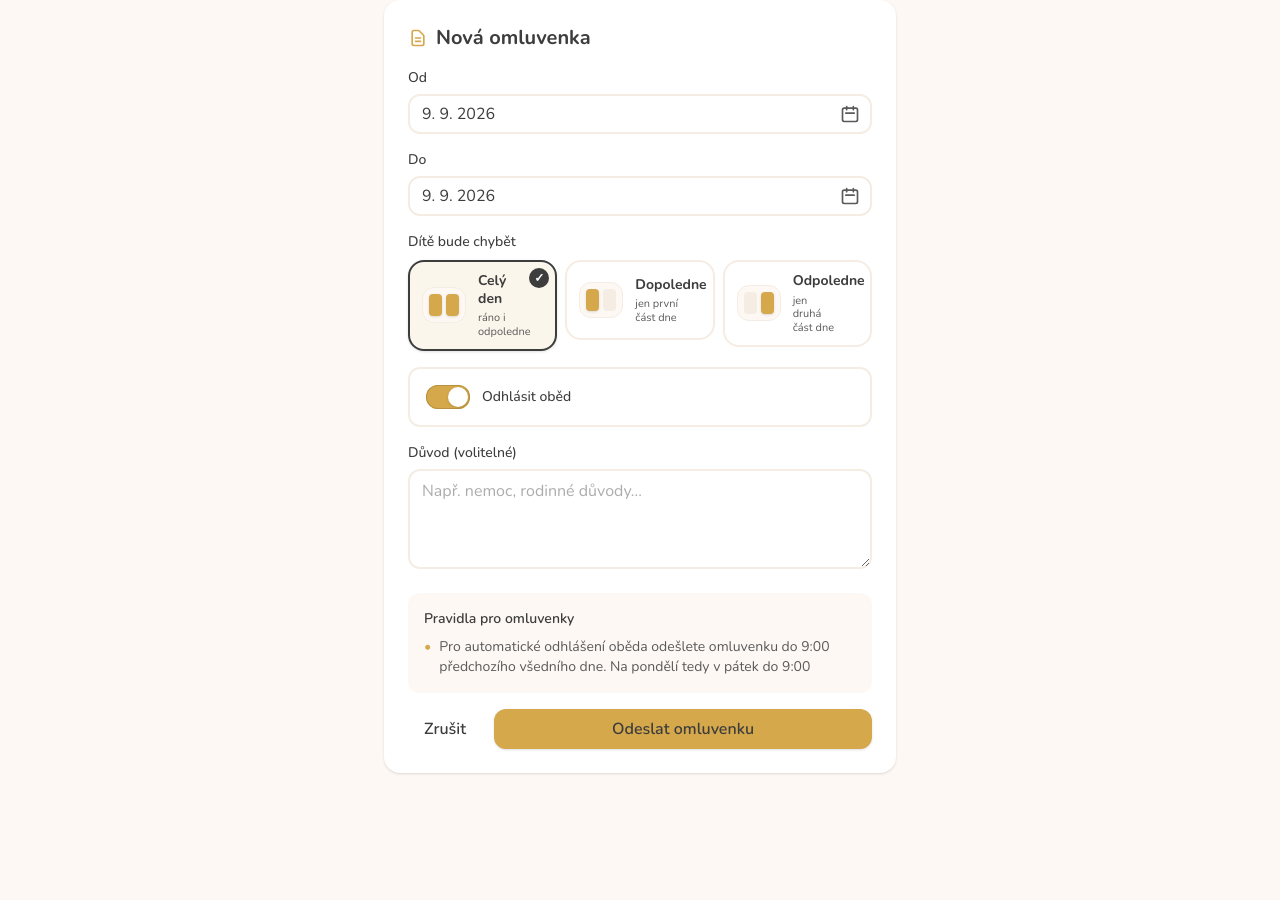
Test: NewExcusePage › filters date endpoints by the child's schedule (makeup=false)
Check: the heading "Nová omluvenka" is shown, box [408, 24, 591, 51]
Click the dropdown labelled "Od".
click(640, 114)  # box [408, 94, 872, 134]
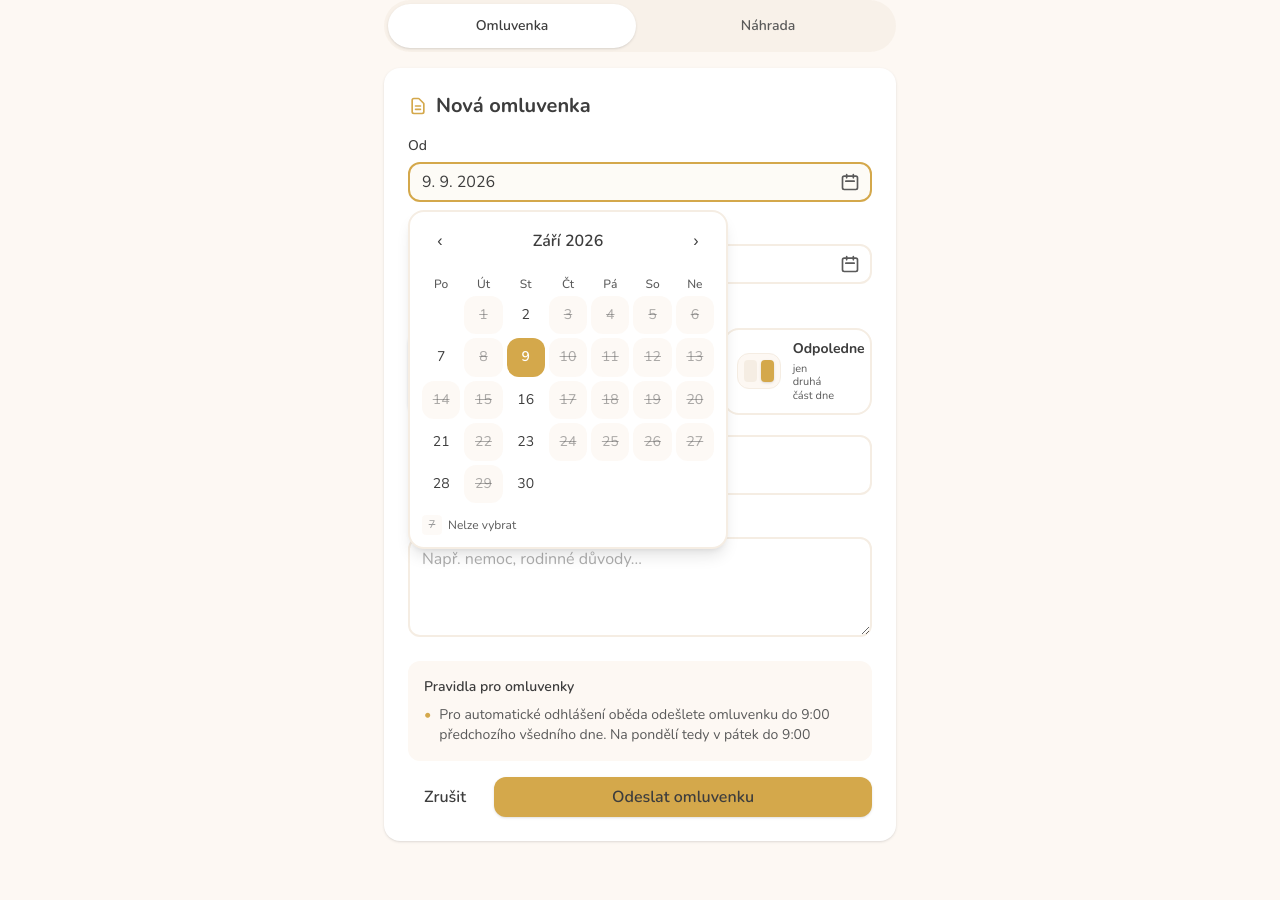
Check: the button named "středa 9. září 2026" is enabled
Check: the button named "čtvrtek 10. září 2026" is disabled, box [549, 338, 587, 377]
Click the button named "středa 9. září 2026".
click(526, 357)  # box [507, 338, 545, 377]
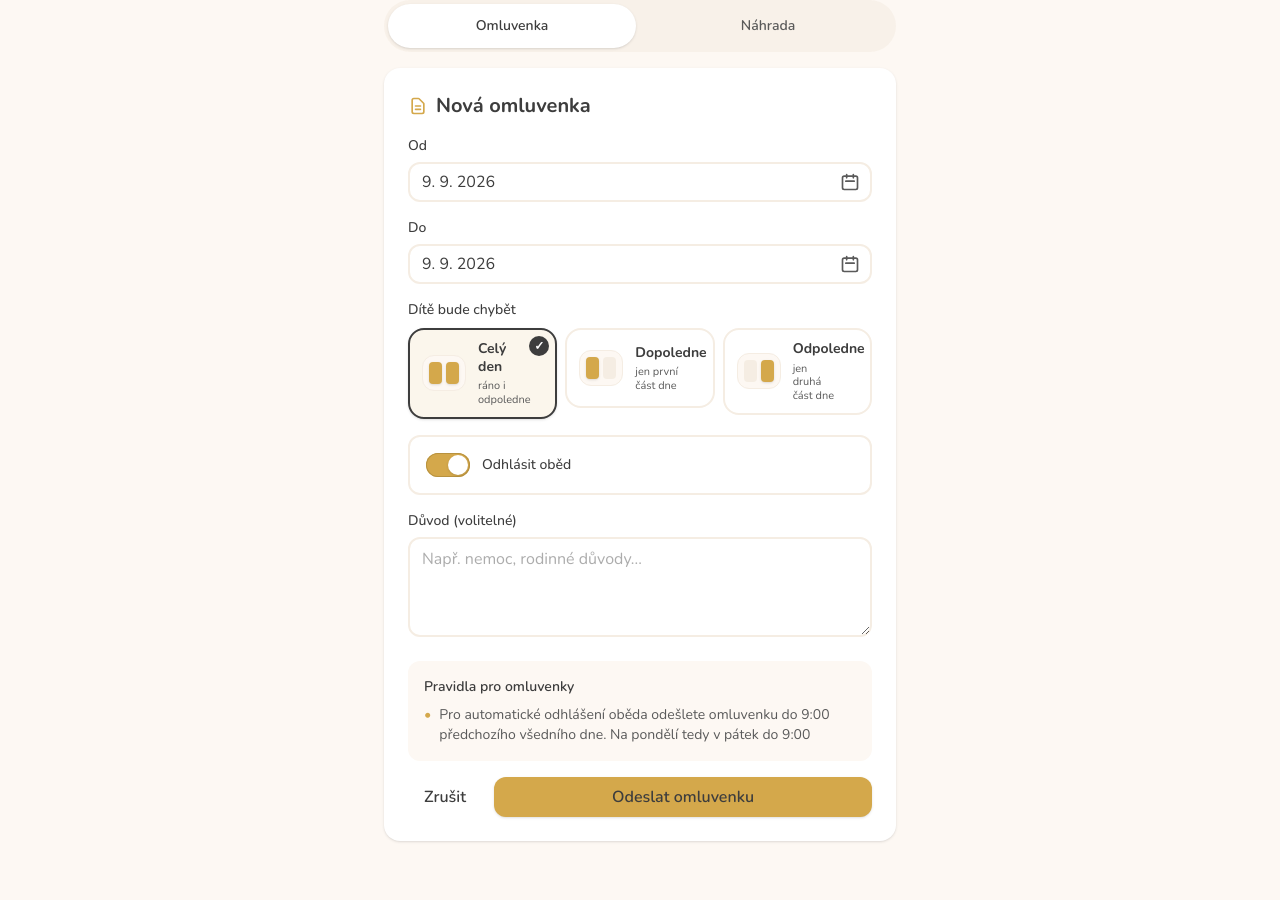
Click the dropdown labelled "Do".
click(640, 264)  # box [408, 244, 872, 284]
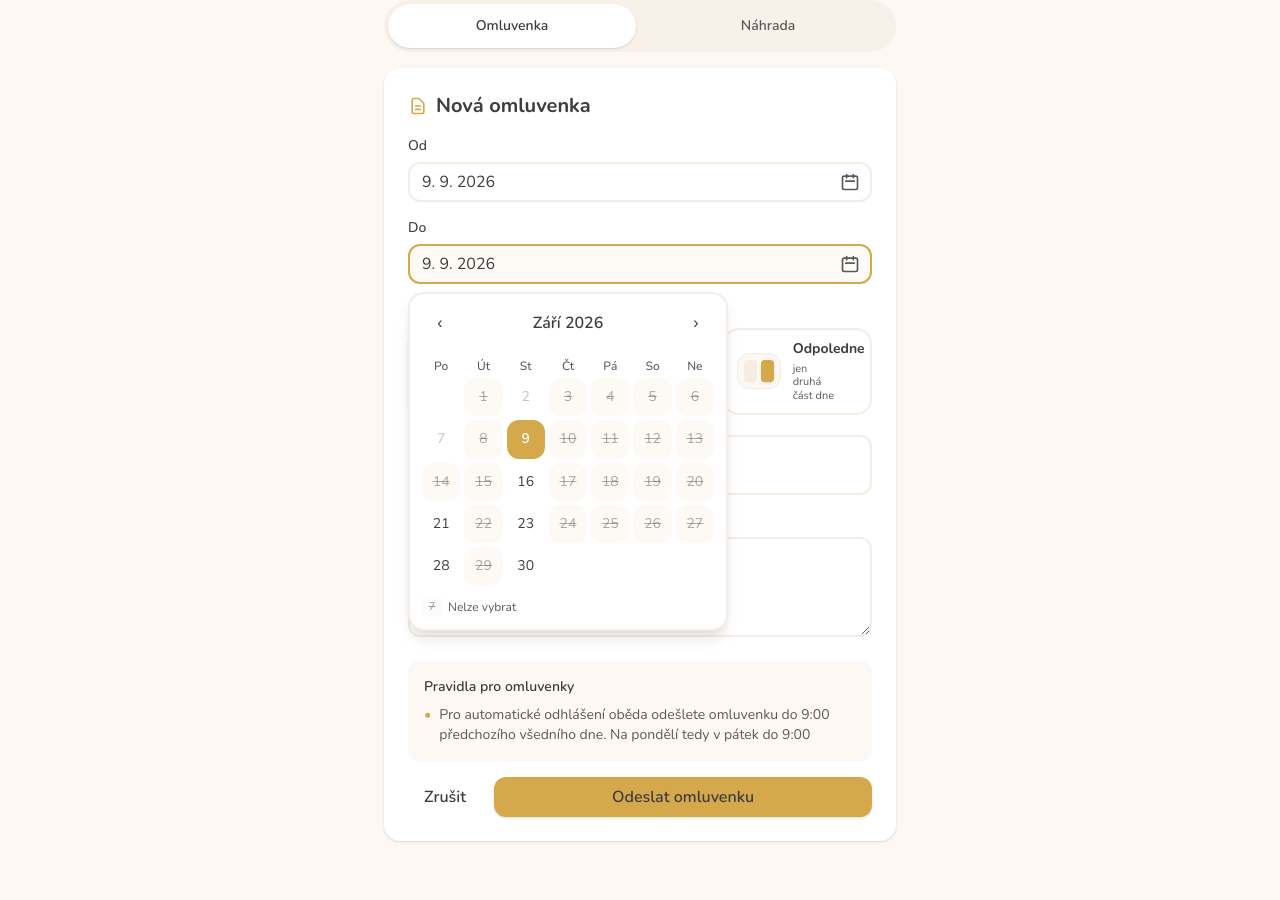
Check: the button named "čtvrtek 10. září 2026" is disabled, box [549, 420, 587, 459]
